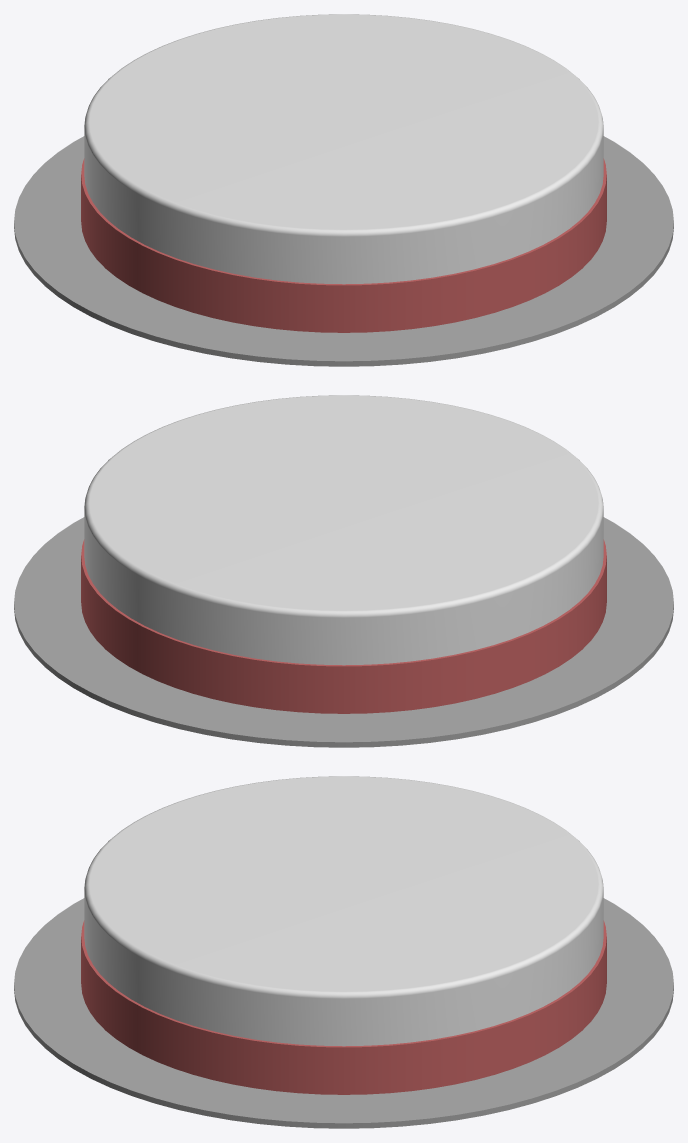
File: Birthday_Cake_NoText.fbx
3 renders of one model, top to bottom at view 1: azimuth 30°, elevation 25°; view 2: azimuth 150°, elevation 25°; view 3: azimuth 270°, elevation 25°, orthographic.
Parts seen in each view (by area): view 1: Cake_Icing_White, Cake_Base, Cake_Icing_Red; view 2: Cake_Icing_White, Cake_Base, Cake_Icing_Red; view 3: Cake_Icing_White, Cake_Base, Cake_Icing_Red.
Part boxes in pixels (x1=…): Cake_Icing_White: x1=84, y1=14, x2=603, y2=284; Cake_Base: x1=14, y1=136, x2=673, y2=366; Cake_Icing_Red: x1=81, y1=158, x2=606, y2=332; Cake_Icing_White: x1=84, y1=395, x2=603, y2=665; Cake_Base: x1=14, y1=517, x2=673, y2=747; Cake_Icing_Red: x1=81, y1=539, x2=606, y2=713; Cake_Icing_White: x1=84, y1=776, x2=603, y2=1046; Cake_Base: x1=14, y1=898, x2=673, y2=1128; Cake_Icing_Red: x1=81, y1=920, x2=606, y2=1094.
Bounding box in the file's own units: 60.31 × 10.6 × 60.31.
